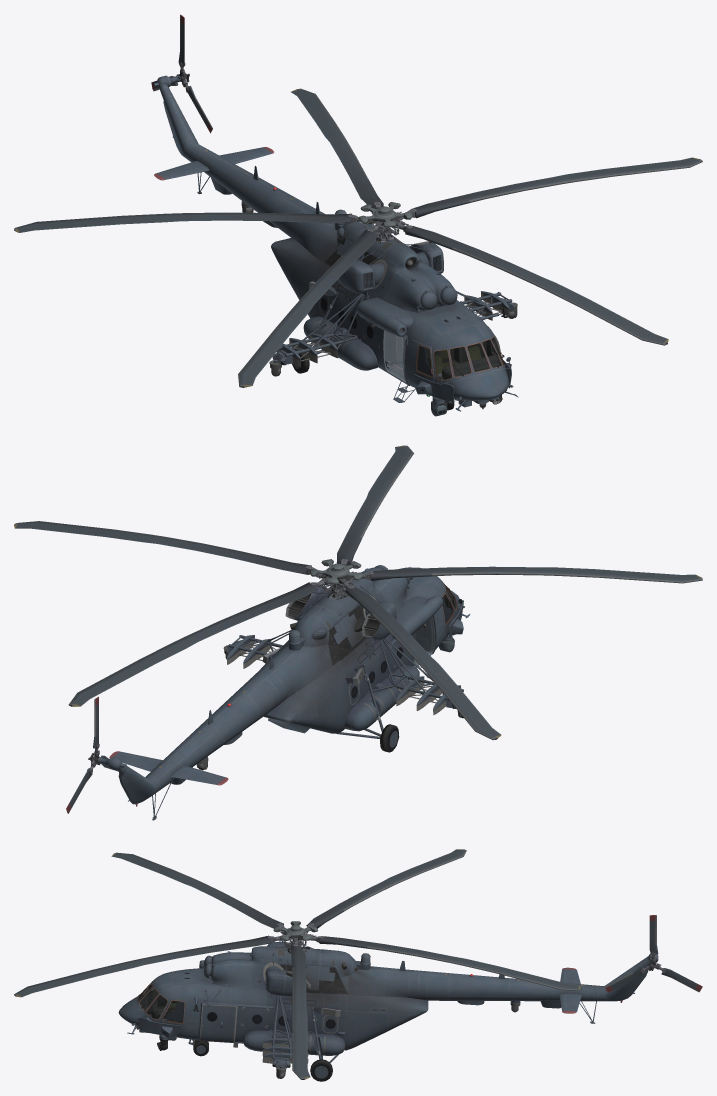
3 renders of one model, top to bottom at view 1: azimuth 30°, elevation 25°; view 2: azimuth 150°, elevation 25°; view 3: azimuth 270°, elevation 25°, orthographic. The views are drawn at different scales.
Visible parts, largest first — view 1: Object_4, Object_3, Object_5, Object_2; view 2: Object_4, Object_3, Object_5; view 3: Object_4, Object_3, Object_5, Object_2.
Boxes of the visible parts, bbox=[...] form: Object_4: bbox=[153, 75, 518, 411]; Object_3: bbox=[14, 14, 702, 410]; Object_5: bbox=[174, 62, 517, 416]; Object_2: bbox=[416, 335, 504, 407]; Object_4: bbox=[98, 565, 470, 820]; Object_3: bbox=[14, 445, 702, 813]; Object_5: bbox=[87, 559, 463, 774]; Object_4: bbox=[118, 942, 658, 1063]; Object_3: bbox=[14, 849, 702, 1081]; Object_5: bbox=[157, 921, 666, 1078]; Object_2: bbox=[136, 982, 184, 1028].
Size of the model in its own units: 19.74 by 5.88 by 25.
Materials: 2 (1 with a texture image).
